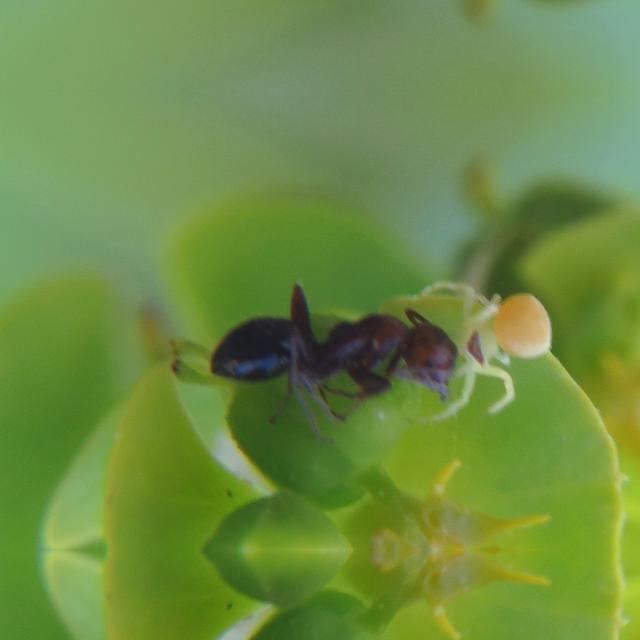Cataglyphis: (174, 284, 500, 426)
